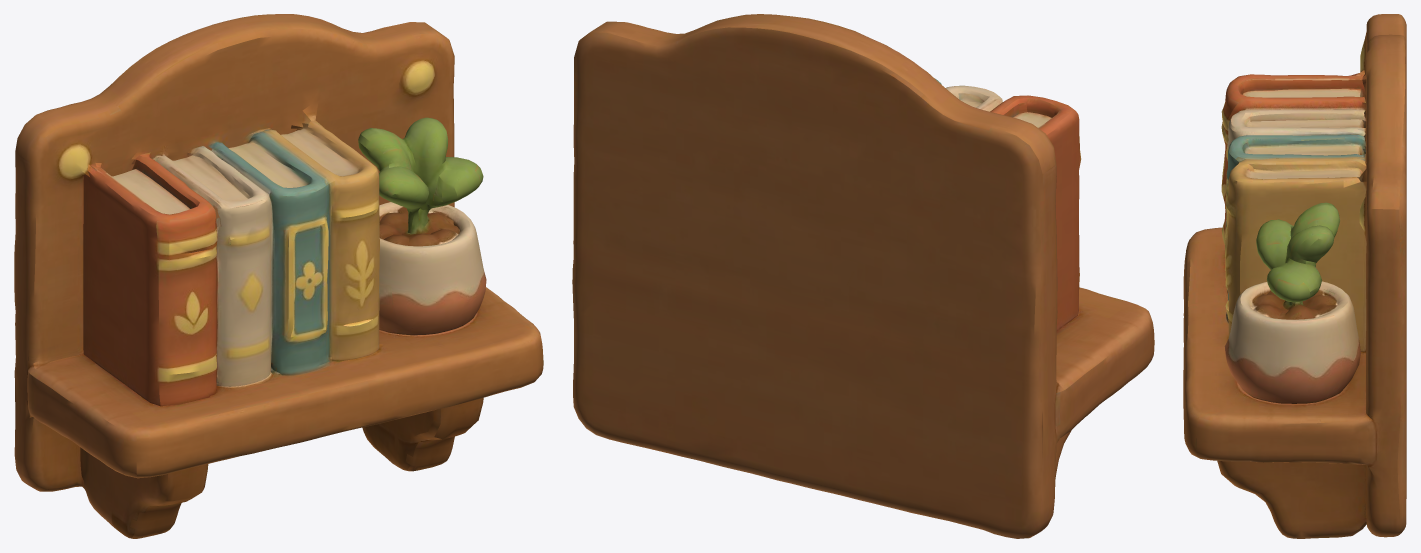
Rendered from Meshy_AI_model.glb.
3 renders of one model, left to right at view 1: azimuth 30°, elevation 25°; view 2: azimuth 150°, elevation 25°; view 3: azimuth 270°, elevation 25°, orthographic. The views are drawn at different scales.
Parts seen in each view (by area): view 1: Mesh0; view 2: Mesh0; view 3: Mesh0.
Part boxes in pixels (bbox=[...]): Mesh0: bbox=[14, 14, 543, 538]; Mesh0: bbox=[572, 14, 1154, 538]; Mesh0: bbox=[1183, 14, 1406, 538].
Bounding box in the file's own units: 1.9 × 1.83 × 0.904.
1 material, 1 textured.
